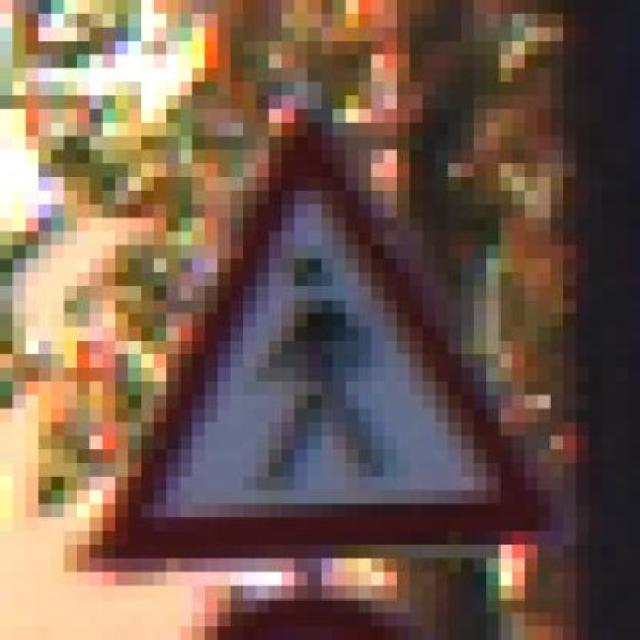Pedestrian Crossing: (52, 82, 550, 572)
